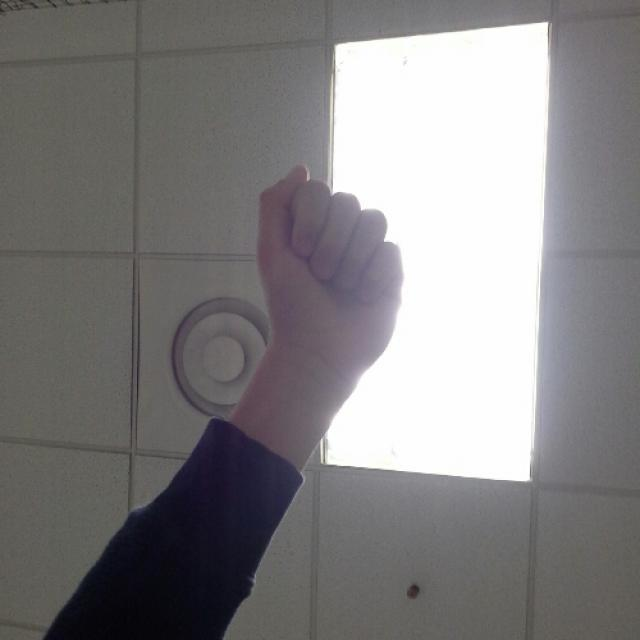rock: (260, 165, 406, 383)
